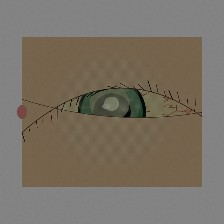corneal_ulcer: (77, 78, 142, 129)
